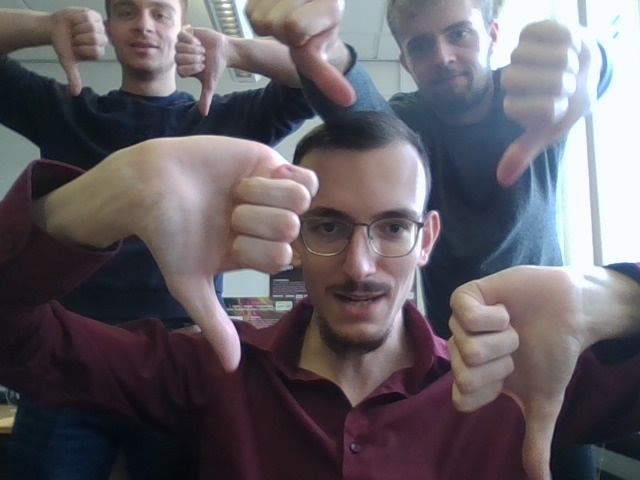thumbdown: (125, 135, 319, 372), (446, 264, 575, 480), (494, 20, 598, 186), (242, 1, 360, 101), (174, 23, 232, 117), (49, 5, 106, 96)
